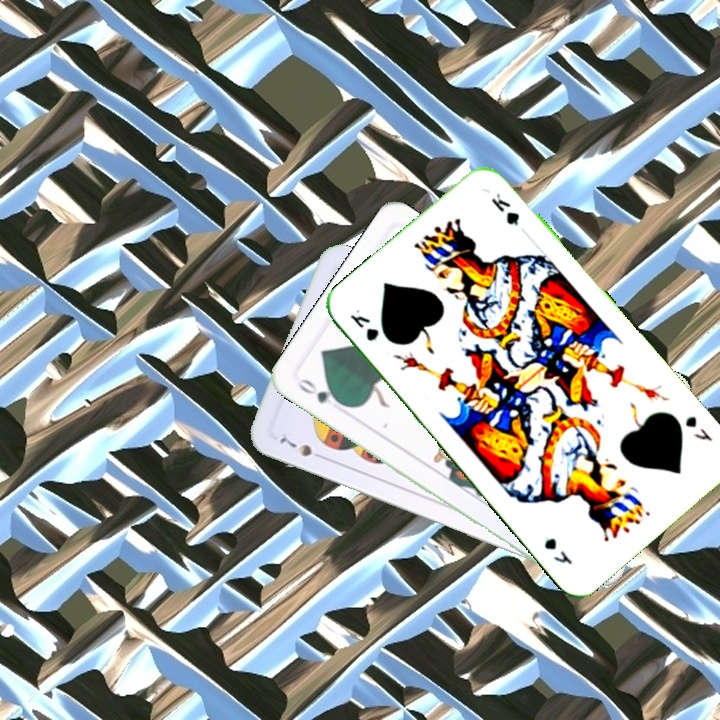GK: (346, 305, 382, 344), (680, 411, 716, 444)
GO: (293, 374, 348, 409)
S7: (276, 433, 329, 463)
